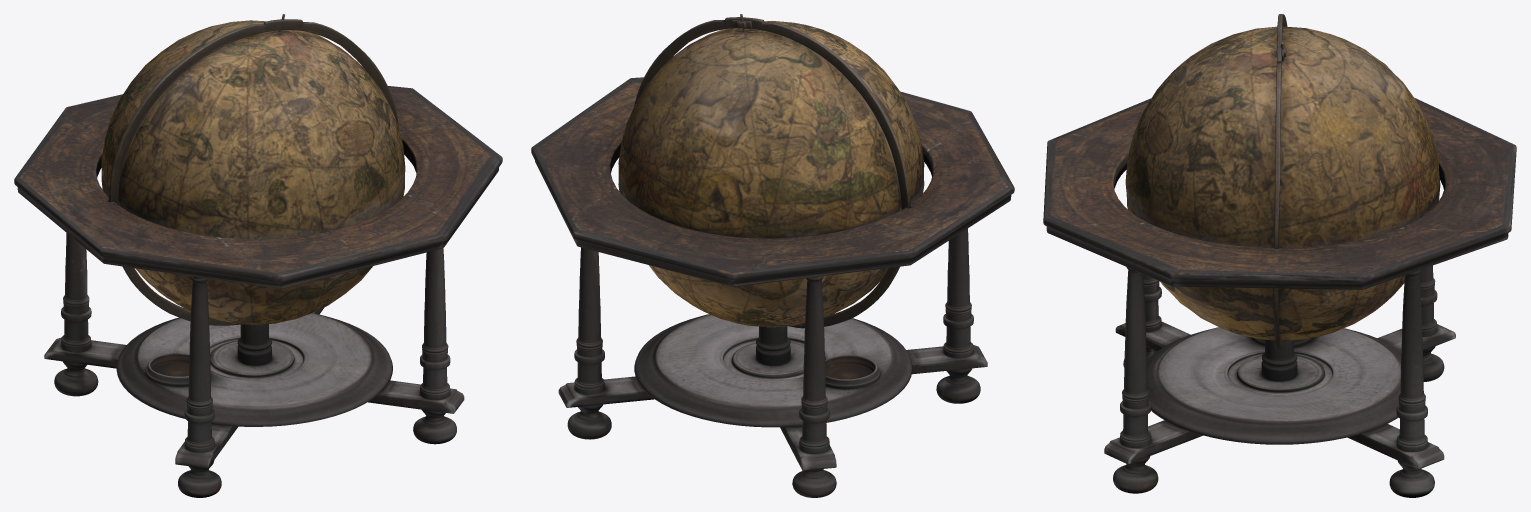
The model's file is celestial_globe.glb.
3 renders of one model, left to right at view 1: azimuth 30°, elevation 25°; view 2: azimuth 150°, elevation 25°; view 3: azimuth 270°, elevation 25°, orthographic. The views are drawn at different scales.
Visible parts, largest first — view 1: Object_2, Object_3, Object_4, Object_10, Object_6, Object_5, Object_11, Object_7, Object_9; view 2: Object_2, Object_3, Object_4, Object_10, Object_7, Object_8, Object_11, Object_6, Object_9; view 3: Object_2, Object_3, Object_4, Object_8, Object_5, Object_11, Object_10, Object_7, Object_9, Object_6.
Boxes of the visible parts, x1=… form: Object_2: x1=101, y1=20, x2=405, y2=324; Object_3: x1=14, y1=86, x2=502, y2=288; Object_4: x1=116, y1=313, x2=392, y2=426; Object_10: x1=109, y1=19, x2=398, y2=325; Object_6: x1=178, y1=276, x2=221, y2=497; Object_5: x1=413, y1=248, x2=456, y2=444; Object_11: x1=44, y1=307, x2=464, y2=468; Object_7: x1=54, y1=233, x2=98, y2=396; Object_9: x1=145, y1=14, x2=284, y2=386; Object_2: x1=618, y1=21, x2=924, y2=327; Object_3: x1=531, y1=77, x2=1014, y2=286; Object_4: x1=634, y1=314, x2=912, y2=427; Object_10: x1=634, y1=17, x2=910, y2=328; Object_7: x1=792, y1=276, x2=836, y2=497; Object_8: x1=567, y1=247, x2=611, y2=439; Object_11: x1=558, y1=345, x2=987, y2=470; Object_6: x1=936, y1=228, x2=980, y2=403; Object_9: x1=740, y1=14, x2=880, y2=389; Object_2: x1=1125, y1=26, x2=1440, y2=340; Object_3: x1=1043, y1=98, x2=1516, y2=289; Object_4: x1=1147, y1=327, x2=1401, y2=444; Object_8: x1=1389, y1=269, x2=1434, y2=497; Object_5: x1=1113, y1=267, x2=1158, y2=493; Object_11: x1=1104, y1=321, x2=1455, y2=469; Object_10: x1=1273, y1=14, x2=1287, y2=350; Object_7: x1=1419, y1=265, x2=1444, y2=381; Object_9: x1=1251, y1=42, x2=1313, y2=381; Object_6: x1=1123, y1=274, x2=1161, y2=367.
Bounding box in the file's own units: 0.7267 × 0.6886 × 0.727.
6 materials, 6 textured.
